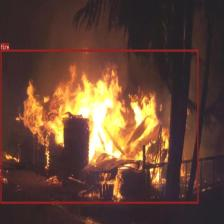fire: (0, 49, 198, 203)
